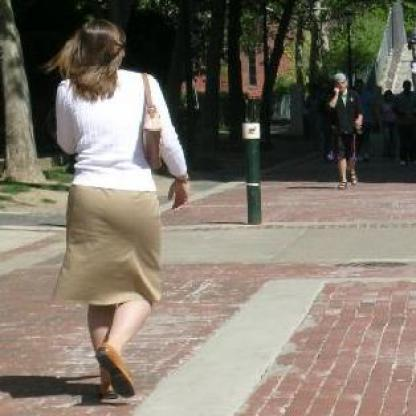person: (47, 18, 192, 399), (324, 73, 364, 197)
